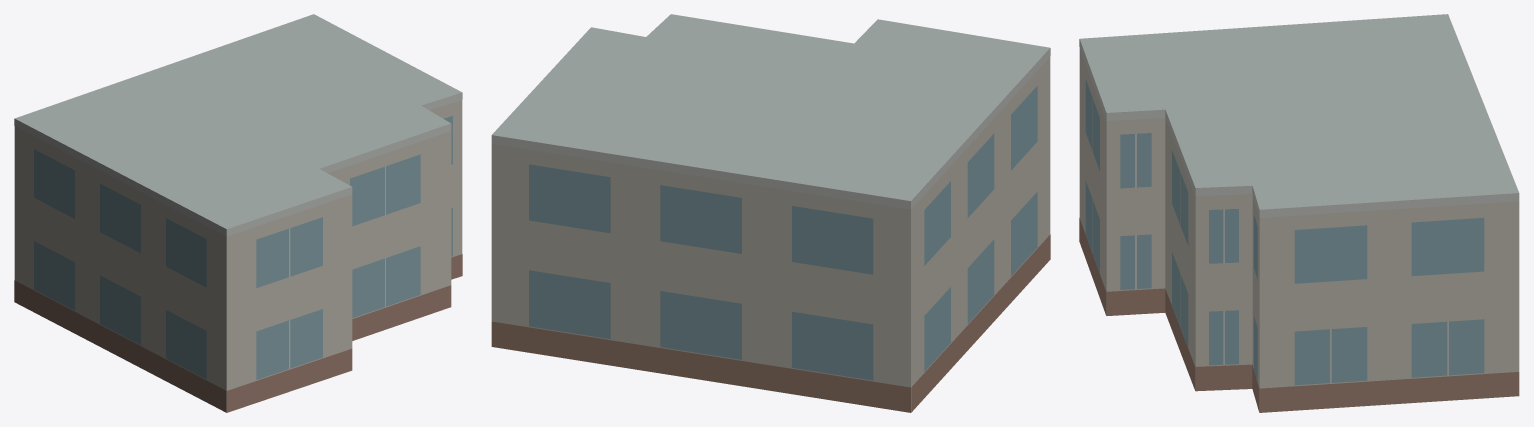
Rendered from survey-upis-32527052.glb.
The picture shows the model from 3 angles, left to right: view 1: azimuth 30°, elevation 25°; view 2: azimuth 150°, elevation 25°; view 3: azimuth 270°, elevation 25°; orthographic projection. The views are drawn at different scales.
Visible parts, largest first — view 1: survey-upis-32527052.tmp; view 2: survey-upis-32527052.tmp; view 3: survey-upis-32527052.tmp.
Part boxes in pixels (left/top/right/bottom): survey-upis-32527052.tmp: left=14, top=14, right=462, bottom=412; survey-upis-32527052.tmp: left=491, top=14, right=1050, bottom=412; survey-upis-32527052.tmp: left=1079, top=14, right=1519, bottom=412.
Bounding box in the file's own units: 12.62 × 6.1 × 11.98.
